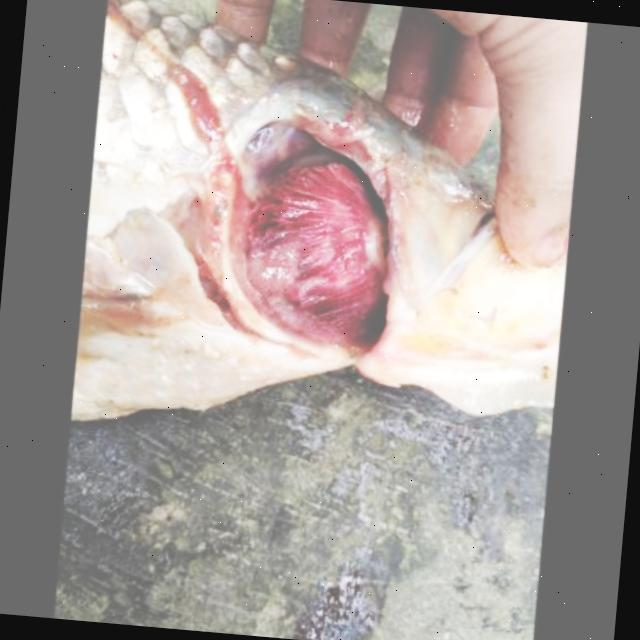Flavobacterium -Bacterial Gill Disease-: (79, 0, 566, 423), (71, 0, 561, 419)
